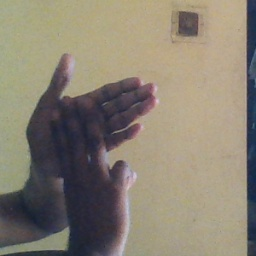M: (23, 47, 160, 216)
